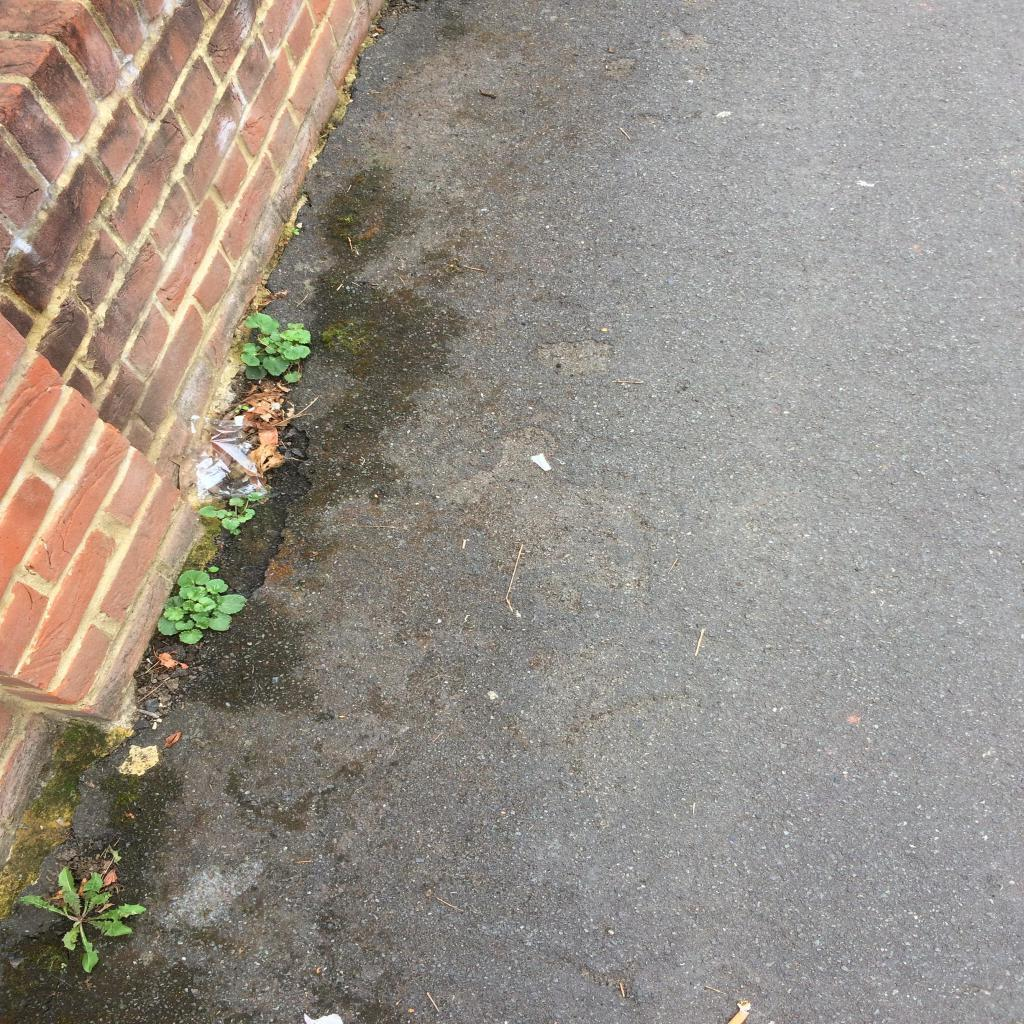Cigarette: (728, 1010, 751, 1023)
Plastic film: (188, 414, 266, 500)
Unlabeled litter: (530, 454, 552, 472)
